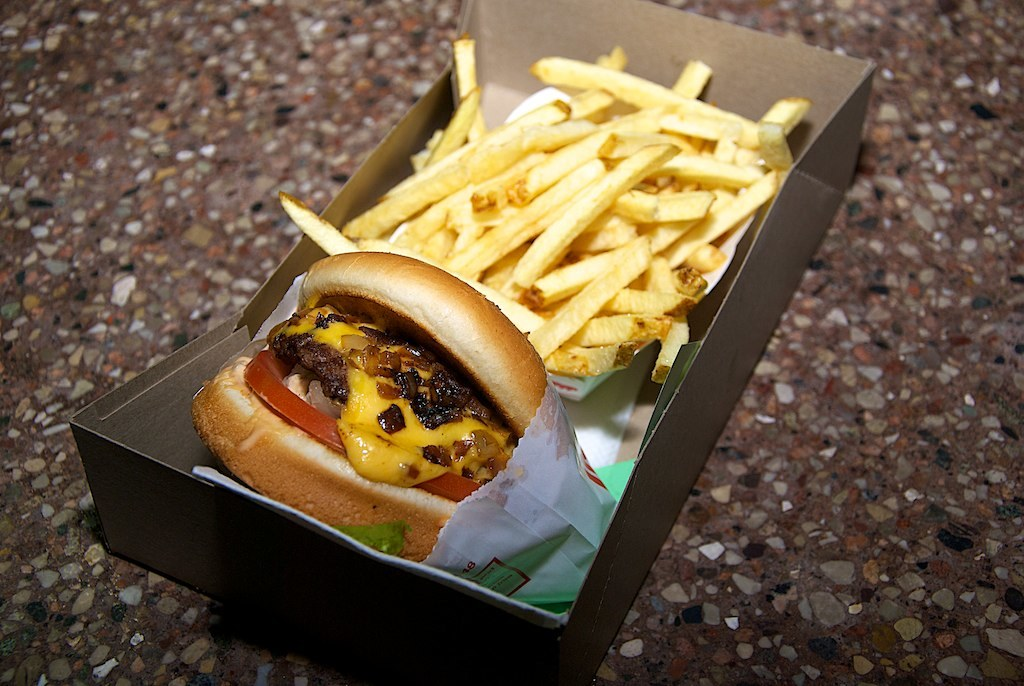French fries: (277, 37, 817, 392)
